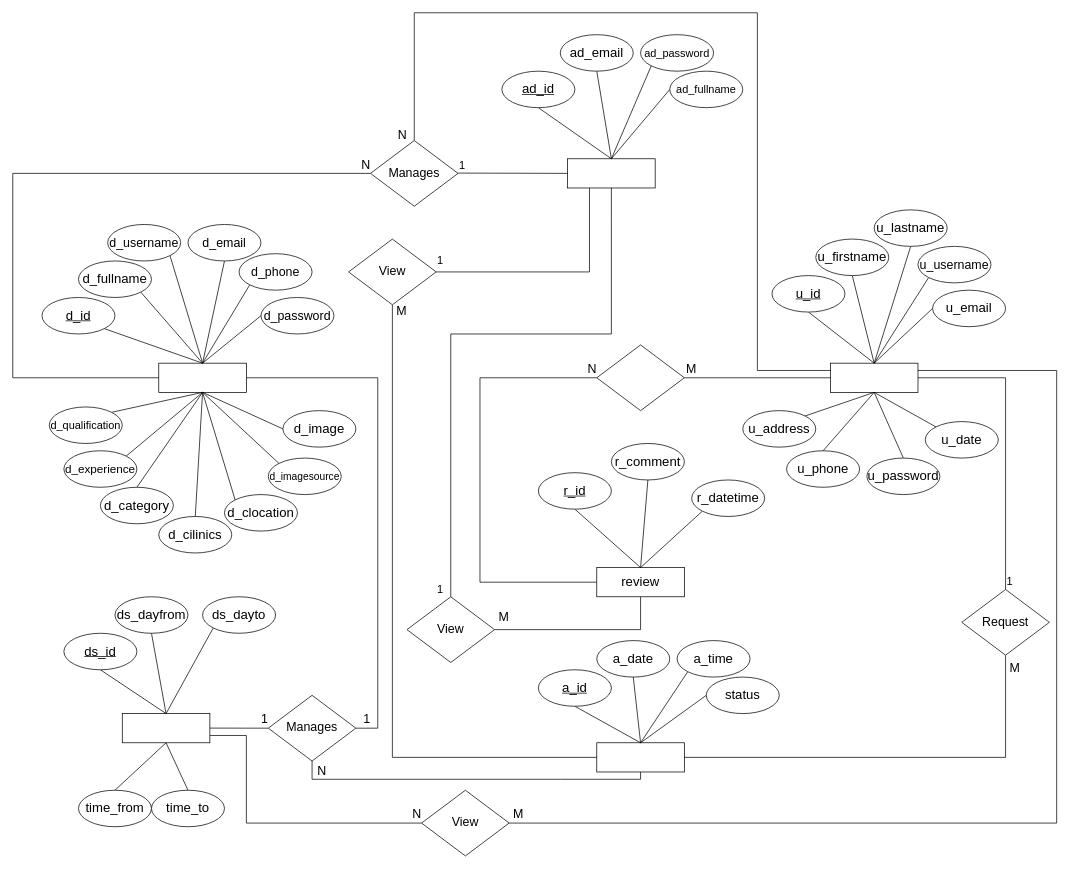
Image size: 1070x869. Some labels were removed from this diagram. Here are the shapes that lost their labels. From the top down, the centre of each, then its label:
At (x=611, y=173): "admin".
At (x=202, y=377): "doctors".
At (x=640, y=377): "Post".
At (x=874, y=377): "users".
At (x=166, y=728): "doctor_schedule".
At (x=640, y=757): "appointment".
